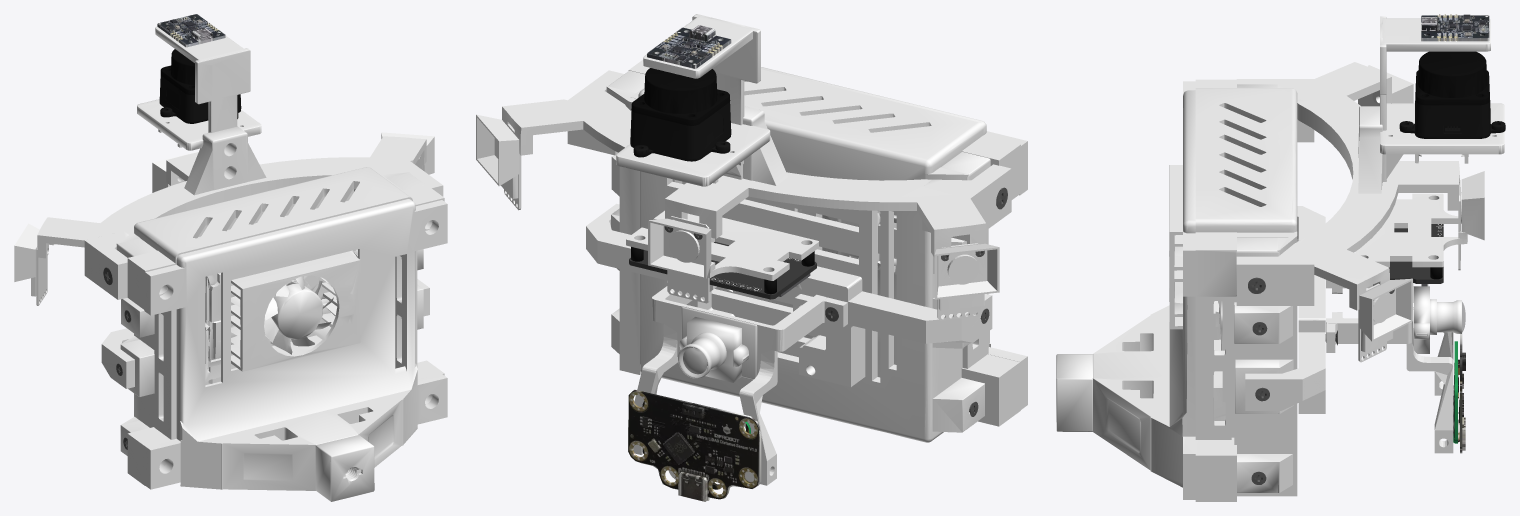
Rendered from module-mobile-v6.glb.
The picture shows the model from 3 angles, left to right: view 1: azimuth 30°, elevation 25°; view 2: azimuth 150°, elevation 25°; view 3: azimuth 270°, elevation 25°; orthographic projection. The views are drawn at different scales.
Parts seen in each view (by area): view 1: shell-rear, housing-rear, chassis-upper, jetson, mount-top, lidar-ld19, chassis-lower, imu, mic-c; view 2: housing-rear, chassis-upper, chassis-lower, tof-8x8, mount-top, lidar-ld19, camera-ar0234, imu, pcb-core, shell-rear, mic-b, jetson (+1 smaller); view 3: housing-rear, chassis-upper, shell-rear, chassis-lower, lidar-ld19, mount-top, jetson, camera-ar0234, imu, pcb-core, mic-a, mount-detail (+1 smaller).
Part boxes in pixels (x1,y1,x2,y2): shell-rear: (144,199,447,501); housing-rear: (116,167,444,485); chassis-upper: (14,126,443,299); jetson: (197,200,360,385); mount-top: (137,26,261,150); lidar-ld19: (159,49,241,123); chassis-lower: (101,279,429,388); imu: (157,14,225,47); mic-c: (36,247,47,305); housing-rear: (606,60,1020,442); chassis-upper: (476,70,1011,310); chassis-lower: (586,203,992,485); tof-8x8: (628,389,761,501); mount-top: (616,14,770,186); lidar-ld19: (630,68,731,161); camera-ar0234: (678,306,757,382); imu: (647,25,731,68); pcb-core: (629,242,816,299); shell-rear: (761,67,1027,410); mic-b: (667,216,709,303); jetson: (672,179,896,377); housing-rear: (1195,79,1297,501); chassis-upper: (1236,62,1484,352); shell-rear: (1056,81,1197,499); chassis-lower: (1245,206,1453,453); lidar-ld19: (1399,51,1505,138); mount-top: (1380,16,1504,181); jetson: (1169,165,1225,420); camera-ar0234: (1412,283,1465,353); imu: (1421,14,1489,41); pcb-core: (1389,224,1443,286); mic-a: (1358,283,1391,362); mount-detail: (1453,341,1459,443).
Bounding box in the file's own units: 2.41 × 2 × 1.9.
Materials: 24 (3 with a texture image).
